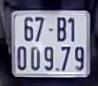0: (16, 42, 29, 72), (29, 44, 41, 74)
1: (66, 15, 77, 44)
6: (22, 14, 35, 44)
7: (34, 14, 46, 45), (59, 44, 71, 75)
9: (72, 44, 87, 73), (43, 44, 54, 71)
B: (53, 13, 68, 45)
